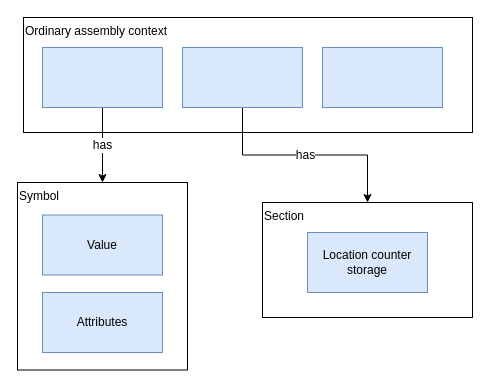
Some shapes in this 490 by 388 pixel diagram are drawn without their labels. The shapes that lost their labels are listed below. From the top down, each one's centre as x and y in pixels, then its label:
At (x=102, y=77): "Symbol storage".
At (x=242, y=77): "Section storage".
At (x=382, y=77): "Symbol dependency tables".
